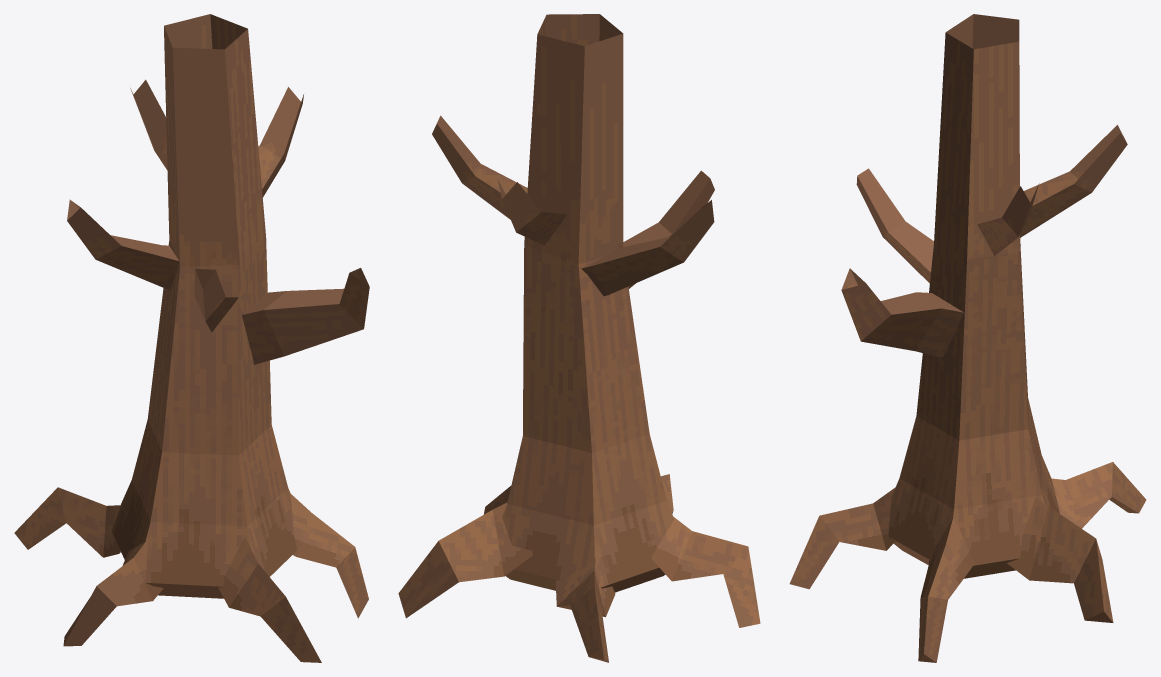
Rendered from f.nto_dub_bez.gltf.
3 views of the same model, side by side, from view 1: azimuth 30°, elevation 25°; view 2: azimuth 150°, elevation 25°; view 3: azimuth 270°, elevation 25° (orthographic). The views are drawn at different scales.
Parts seen in each view (by area): view 1: sphere; view 2: sphere; view 3: sphere.
Boxes of the visible parts, x1,y1,x2,y2 form: sphere: (14,14,369,662); sphere: (398,14,760,662); sphere: (789,14,1146,662).
Size of the model in its own units: 3.51 by 6.77 by 3.81.
1 material, 1 textured.
